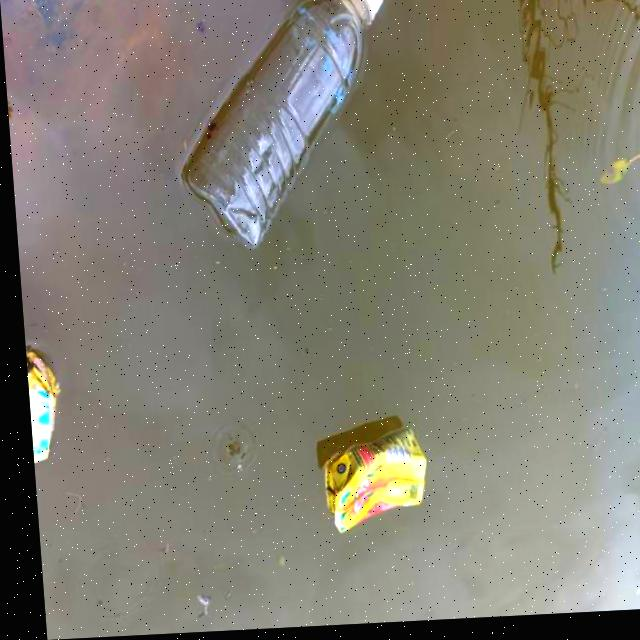paper: (303, 396, 444, 539), (19, 328, 71, 477)
waterbottle: (155, 0, 445, 250)
